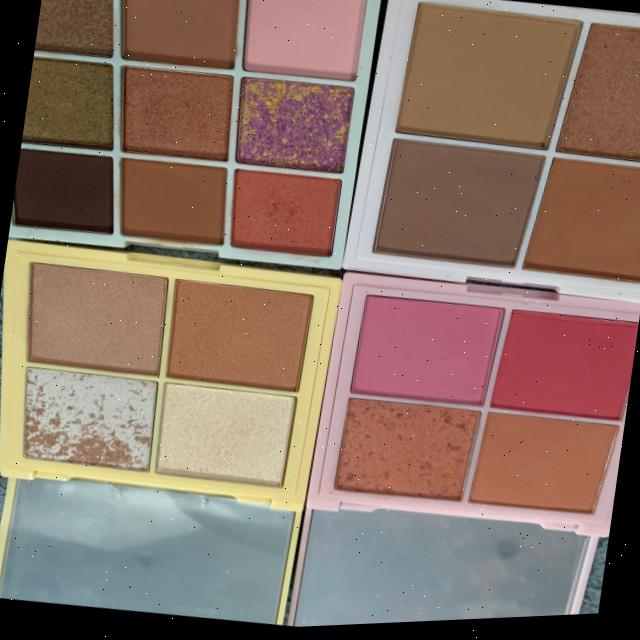eye shade: (13, 0, 379, 270), (366, 0, 640, 292), (332, 285, 640, 529)
highlighter: (24, 254, 318, 490)
